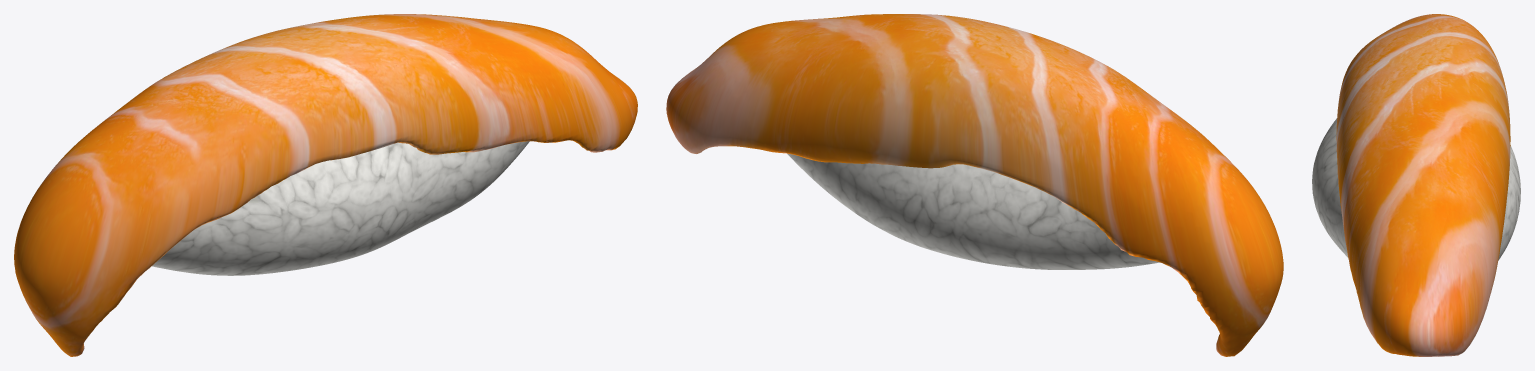
Rendered from sushi_nigiri_salmon.glb.
3 views of the same model, side by side, from view 1: azimuth 30°, elevation 25°; view 2: azimuth 150°, elevation 25°; view 3: azimuth 270°, elevation 25° (orthographic). The views are drawn at different scales.
Parts seen in each view (by area): view 1: mm_frame, Sphere; view 2: mm_frame, Sphere; view 3: mm_frame, Sphere.
Part boxes in pixels (x1,y1,x2,y2): mm_frame: (14, 14, 637, 356); Sphere: (152, 141, 529, 275); mm_frame: (666, 14, 1283, 356); Sphere: (787, 153, 1159, 269); mm_frame: (1336, 14, 1510, 356); Sphere: (1312, 118, 1520, 260).
Size of the model in its own units: 9.83 by 4.04 by 3.04.
Materials: 2 (2 with a texture image).
